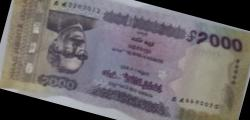1000 taka: (18, 4, 246, 115)
